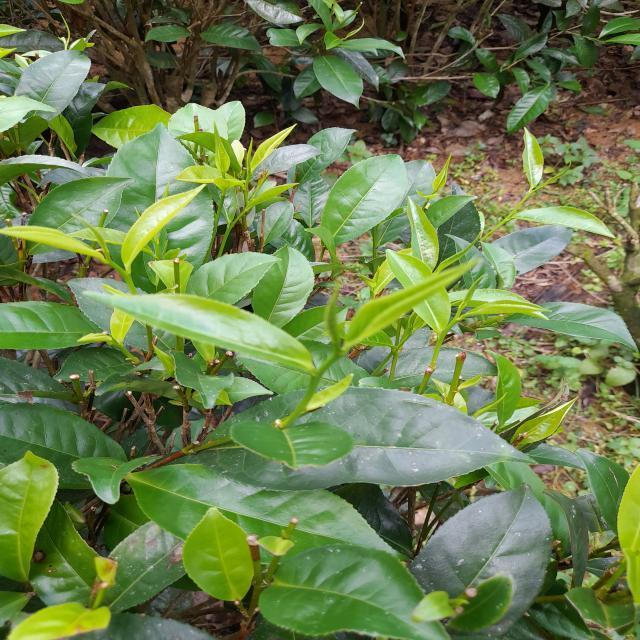Stem: (525, 191, 533, 199), (452, 316, 459, 324), (220, 195, 225, 201), (110, 262, 116, 267), (246, 175, 251, 179)
